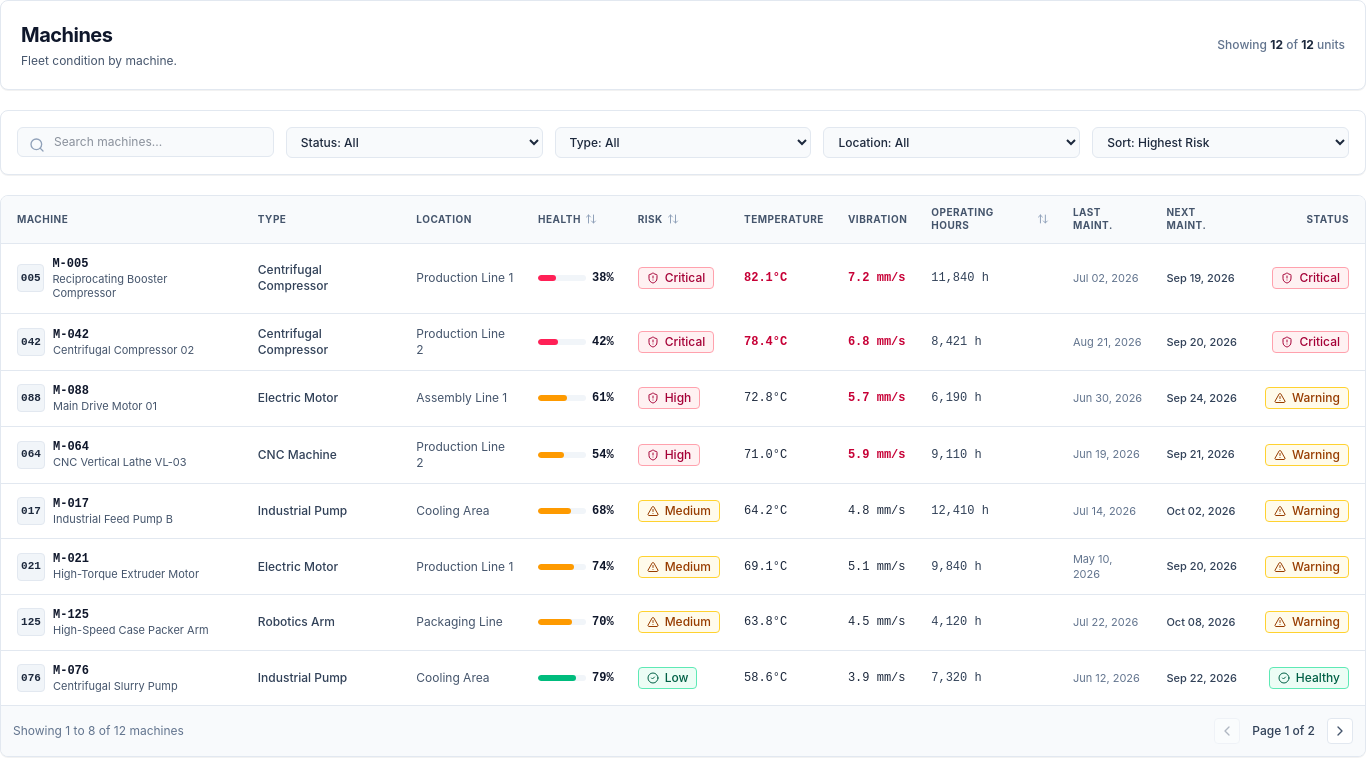
MachinesPage filters › narrows rows by search query
The image size is (1366, 768).
Type "M-042" into the field with placeholder "Search machines..." at (145,142), box [17,127,274,157]
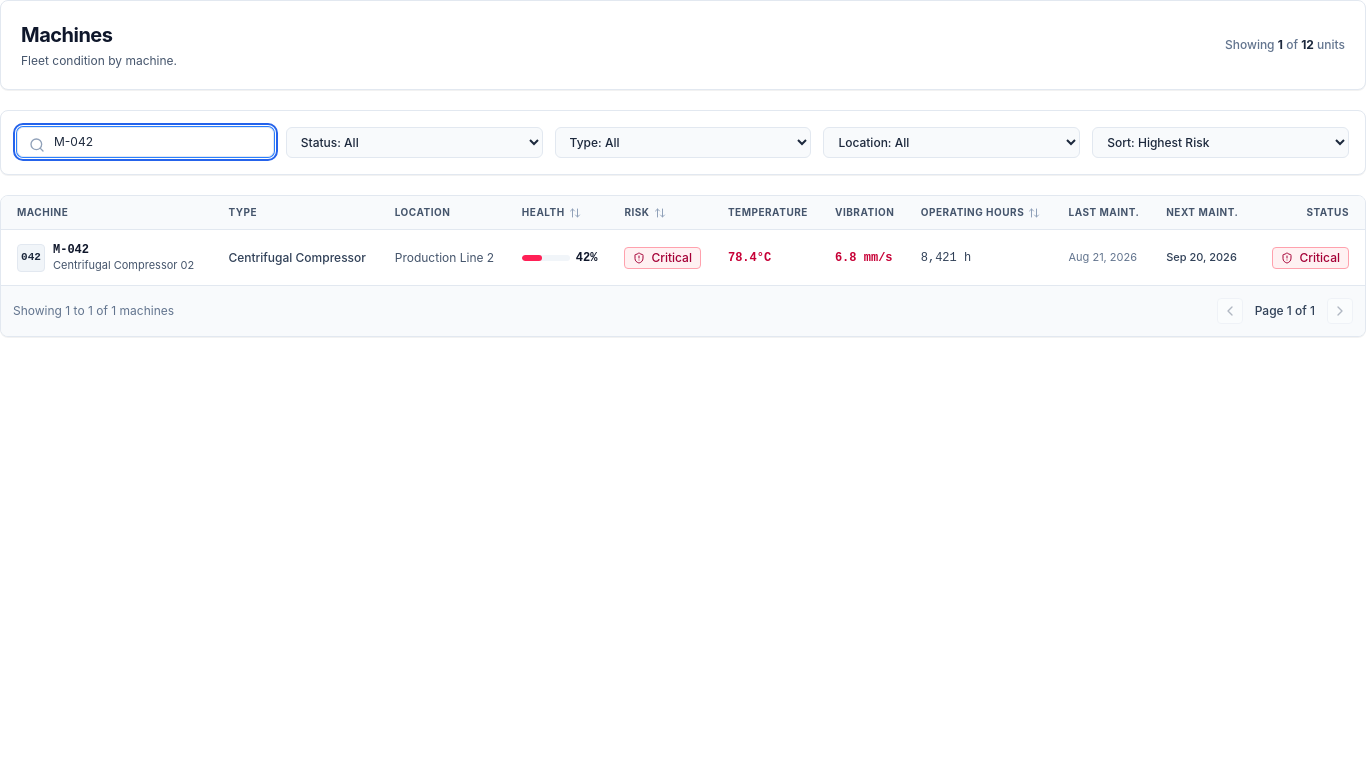
Expected: the text "M-017" is gone
